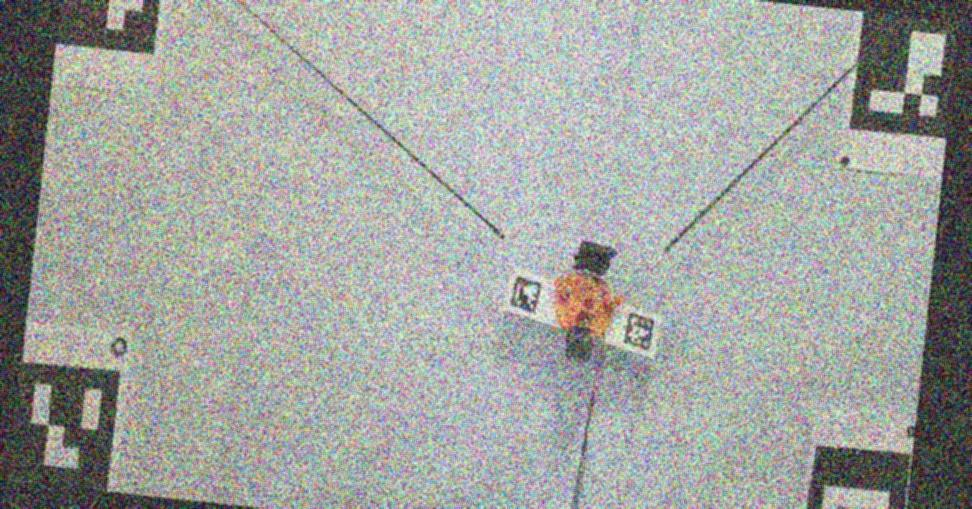robot: (551, 240, 623, 359)
